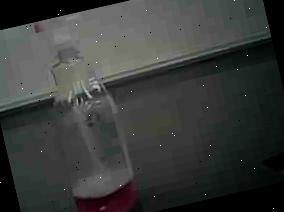hazard: (21, 5, 155, 212)
